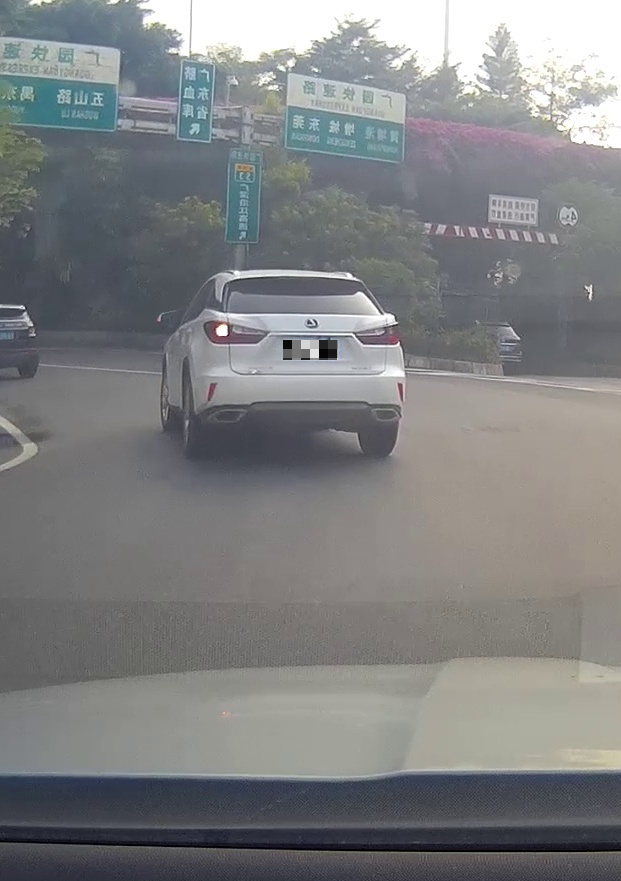L_light: (203, 318, 272, 345)
R_light: (353, 323, 401, 346)
T_light: (280, 274, 313, 281)
day-left: (198, 270, 406, 458)
plate_1: (283, 340, 338, 360)
